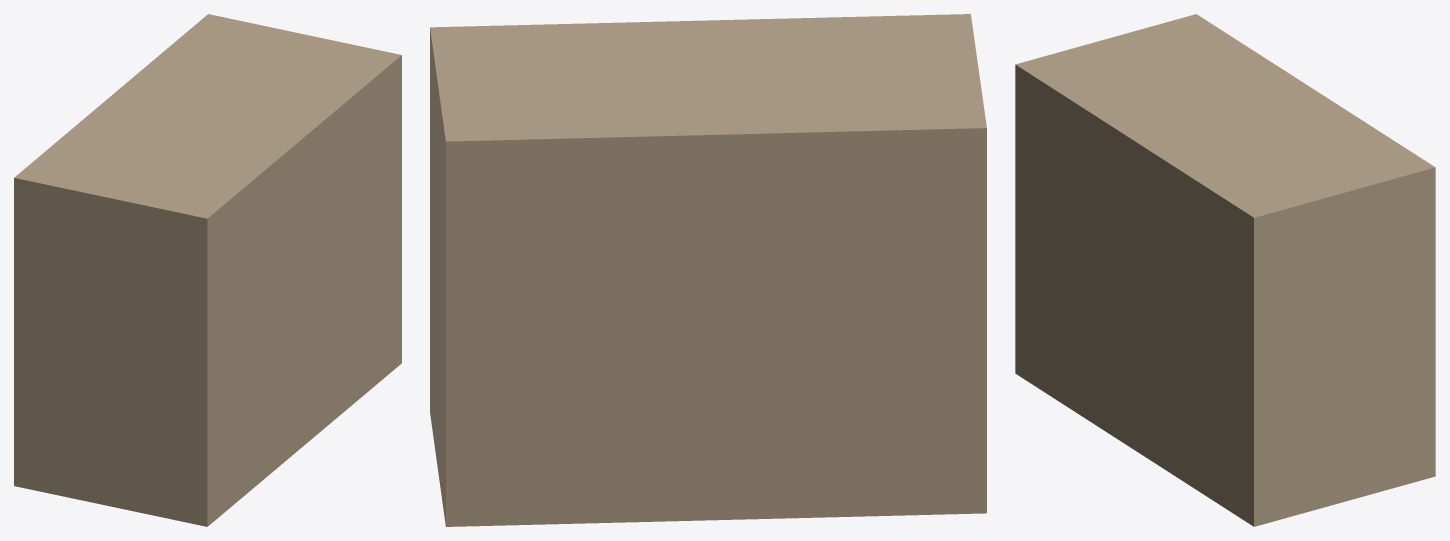
The model's file is bld_164605980.dae.
3 renders of one model, left to right at view 1: azimuth 30°, elevation 25°; view 2: azimuth 150°, elevation 25°; view 3: azimuth 270°, elevation 25°, orthographic. The views are drawn at different scales.
Visible parts, largest first — view 1: bld_164605980; view 2: bld_164605980; view 3: bld_164605980.
Part boxes in pixels (box(x1,y1,x2,y2)): bld_164605980: box(14, 14, 401, 526); bld_164605980: box(430, 14, 986, 526); bld_164605980: box(1015, 14, 1435, 526).
Size of the model in its own units: 11.32 by 9.86 by 8.
